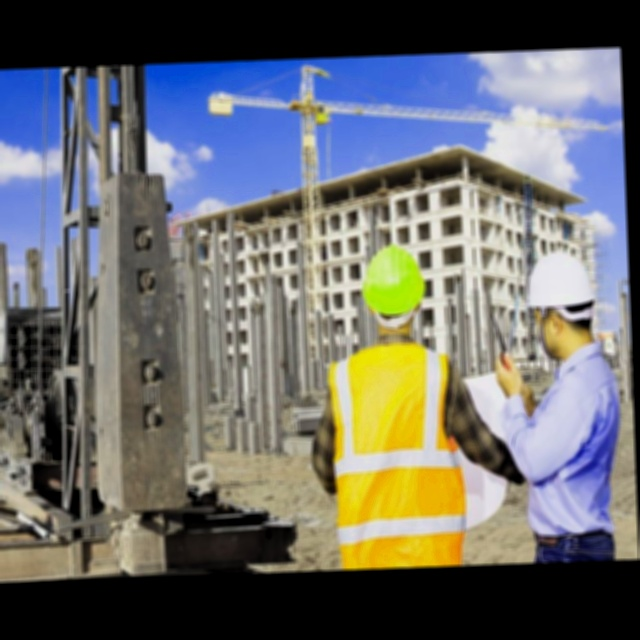Con_Casco: (361, 243, 427, 337)
Con_Chaleco: (326, 343, 465, 571)
Sin_Chaleco: (521, 346, 626, 534)
